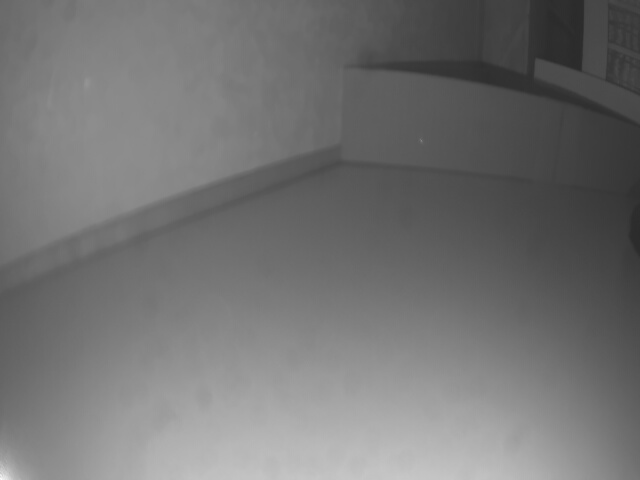Point: (344, 64, 640, 196)
